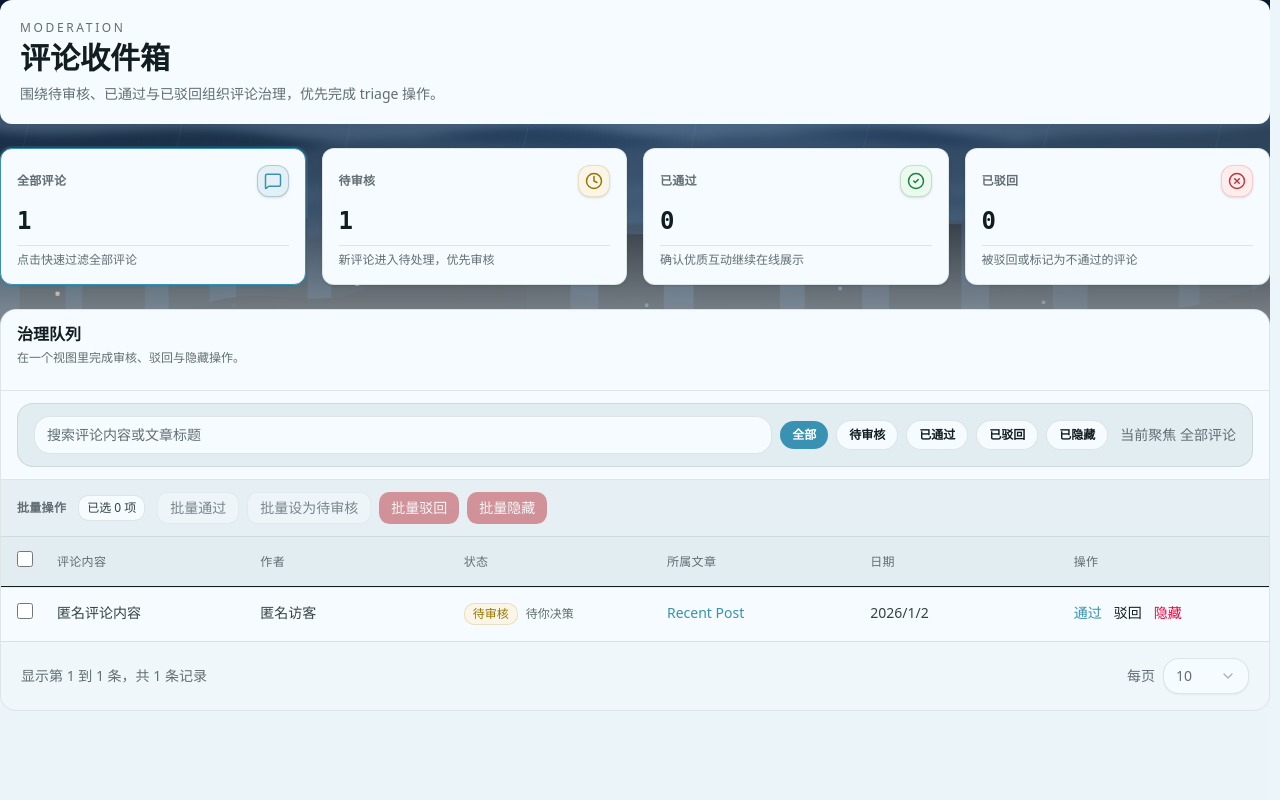
Test: admin comments page › approves a comment with optimistic update and silent refetch
Expected: the text "待你决策" is shown, x1=526 y1=606 x2=574 y2=622
Step 1. Click the button "通过" → {"x": 1088, "y": 613}, box x1=1074 y1=603 x2=1102 y2=623
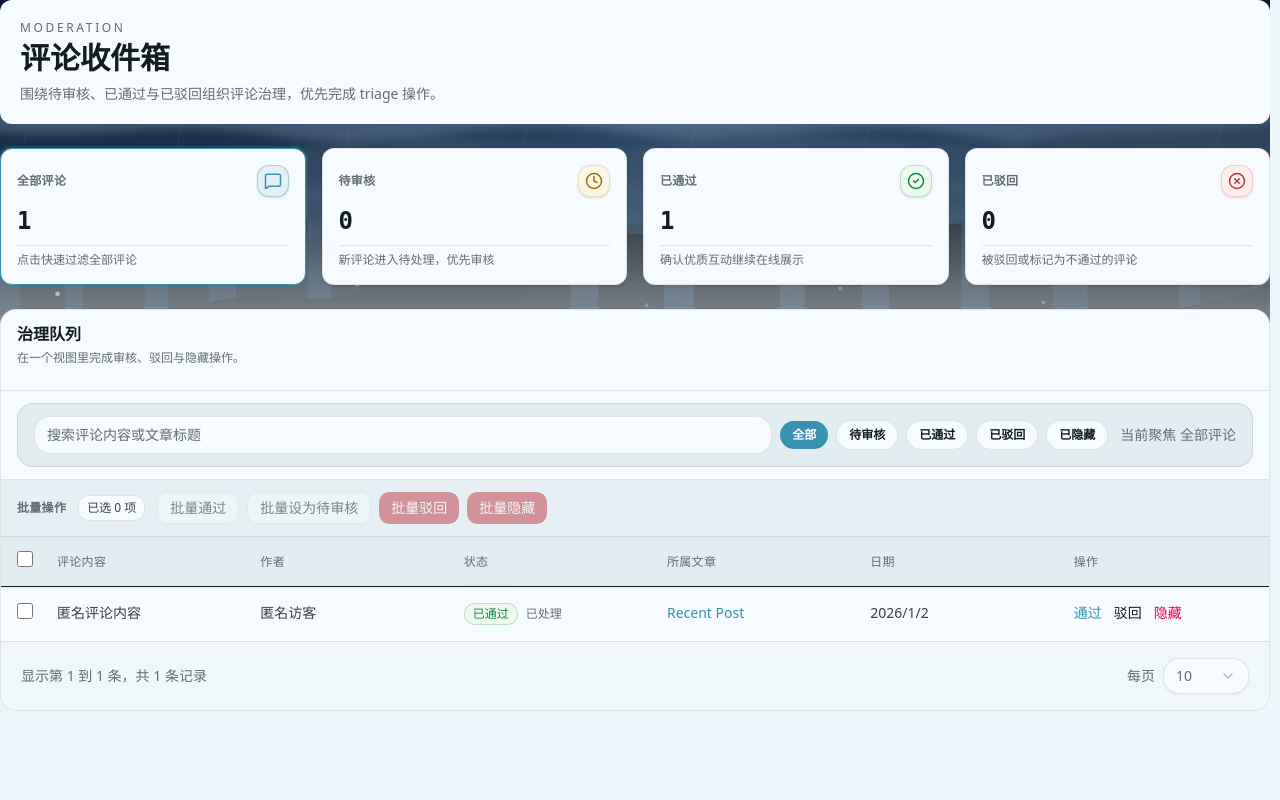
Expected: the text "已处理" is shown, x1=526 y1=606 x2=562 y2=622
